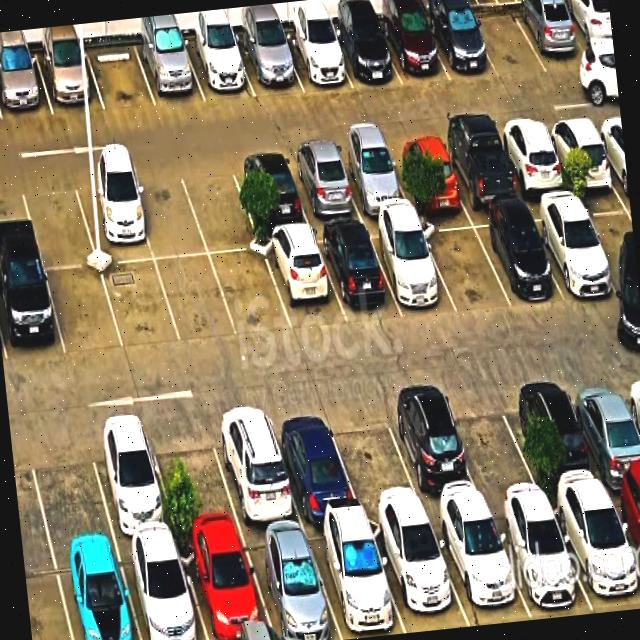empty: (444, 381, 543, 503), (325, 397, 424, 514), (146, 416, 241, 537), (24, 424, 114, 550), (418, 215, 510, 312), (178, 157, 260, 254), (128, 165, 207, 259), (19, 174, 97, 268), (155, 255, 237, 343), (101, 260, 181, 350), (45, 266, 123, 356), (210, 251, 292, 336), (577, 193, 639, 296), (467, 5, 546, 79), (85, 42, 156, 109)
occupied: (381, 388, 486, 511), (488, 499, 593, 618), (428, 505, 531, 626), (367, 514, 469, 633), (304, 519, 405, 639), (207, 403, 302, 530), (240, 527, 342, 640), (548, 489, 640, 613), (85, 419, 177, 542), (266, 403, 361, 522), (514, 374, 606, 496), (177, 532, 274, 640), (525, 197, 619, 297), (117, 538, 207, 640), (564, 370, 640, 488), (469, 209, 562, 305), (261, 230, 346, 332), (314, 224, 402, 322), (366, 220, 456, 314), (53, 544, 140, 640), (72, 170, 154, 264), (438, 129, 521, 208), (230, 152, 310, 232), (0, 266, 65, 363), (284, 147, 363, 224), (333, 142, 412, 217), (386, 135, 466, 208), (510, 2, 593, 72), (494, 121, 571, 196), (543, 116, 619, 189), (377, 11, 450, 85), (423, 9, 499, 80), (328, 20, 402, 88), (134, 38, 205, 106), (182, 36, 255, 101), (35, 46, 104, 114), (280, 28, 352, 91), (235, 32, 303, 96), (559, 0, 615, 66), (0, 52, 53, 120), (607, 484, 640, 571)
